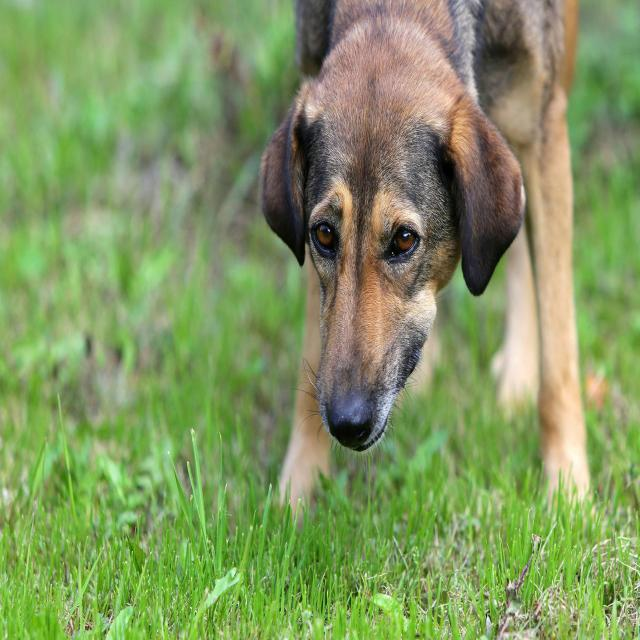fungal infection: (403, 295, 434, 360), (405, 258, 436, 304)
